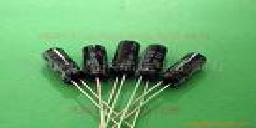Electrolytic-Capacitor: (109, 39, 138, 128), (41, 44, 85, 91), (84, 39, 107, 128), (142, 39, 164, 89)
